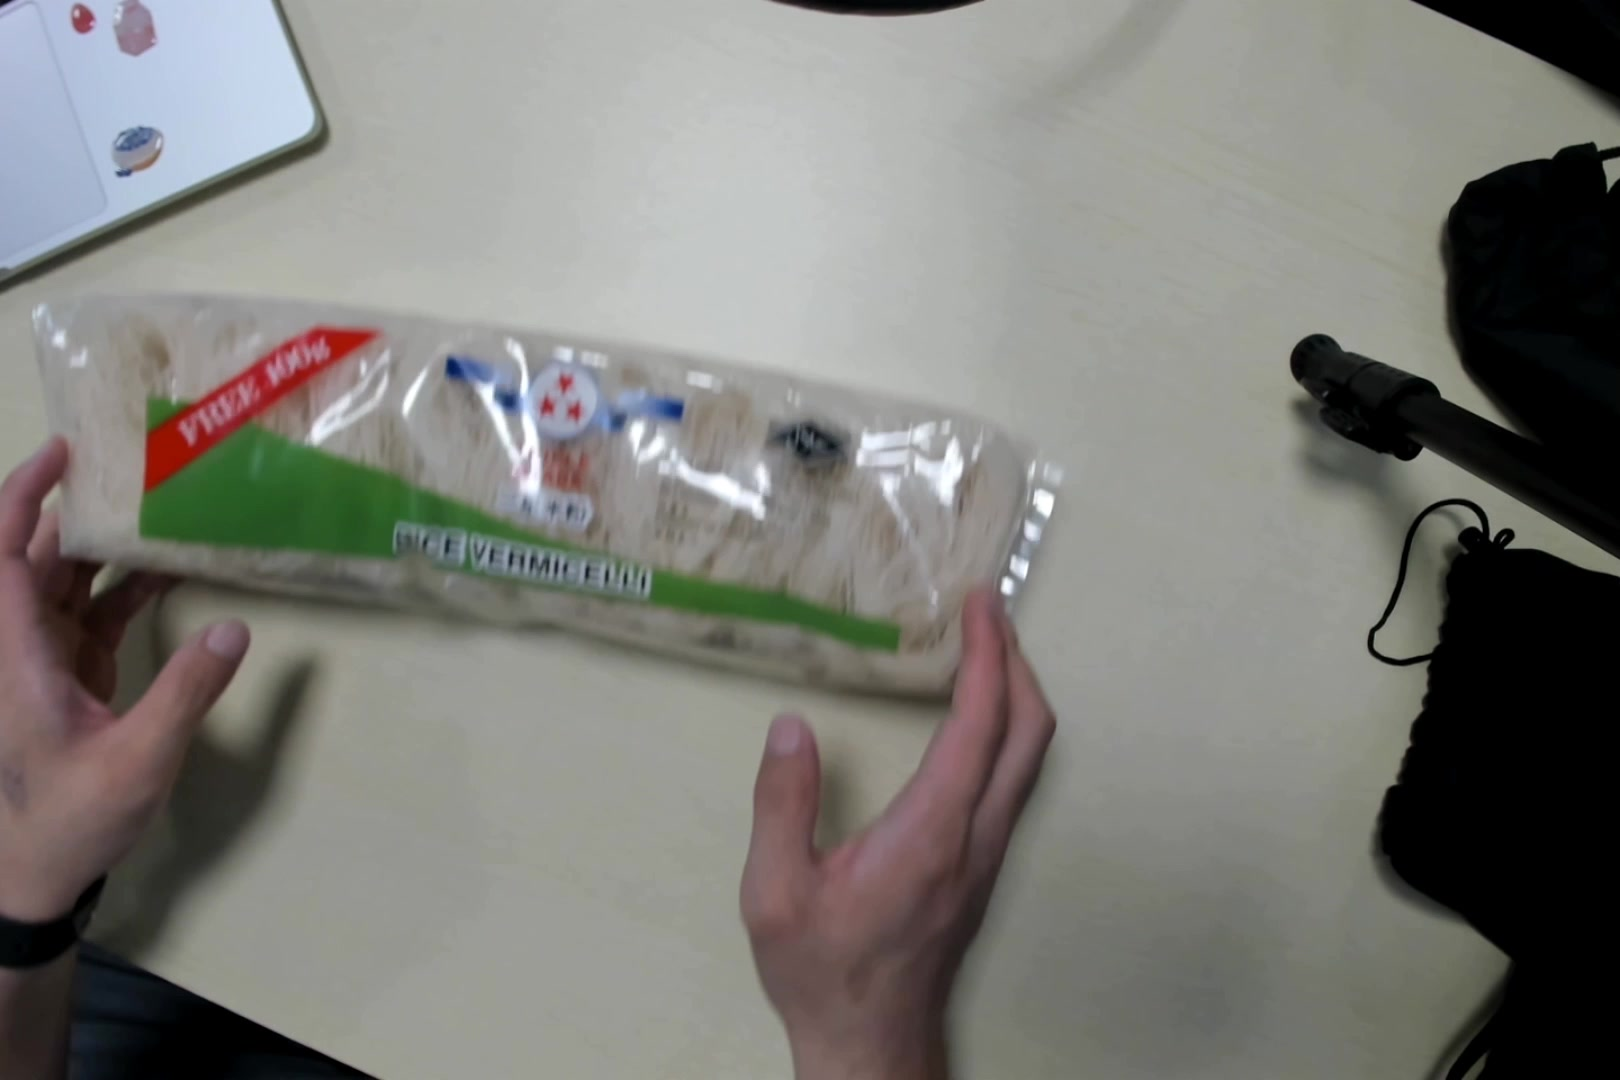BeeHoonVermicelliMeeSua_600-699g_Halal_NonHealthy: (36, 300, 1012, 686)
